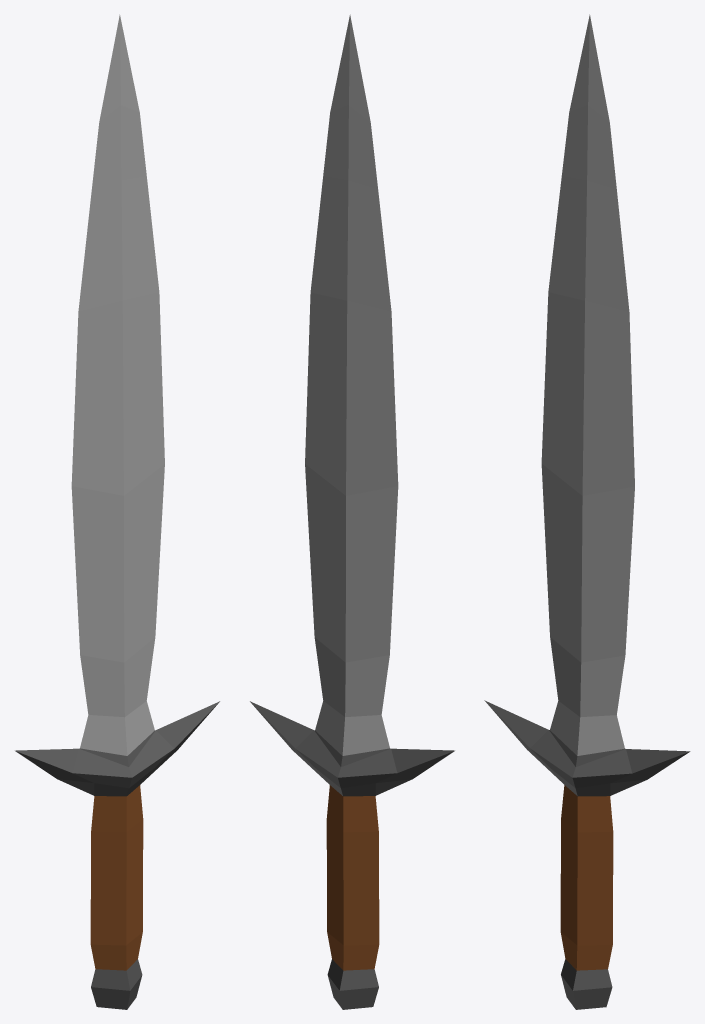
File: Low Poly Weapon Pack - by Kickin It Studios.fbx_Leaf_Blade.glb
3 views of the same model, side by side, from view 1: azimuth 30°, elevation 25°; view 2: azimuth 150°, elevation 25°; view 3: azimuth 330°, elevation 25° (orthographic).
Parts seen in each view (by area): view 1: Leaf Blade; view 2: Leaf Blade; view 3: Leaf Blade.
Part boxes in pixels (box(x1,y1,x2,y2)): Leaf Blade: box(15, 14, 219, 1009); Leaf Blade: box(250, 14, 454, 1009); Leaf Blade: box(484, 14, 690, 1009).
Bounding box in the file's own units: 0.1964 × 0.8981 × 0.0489.
